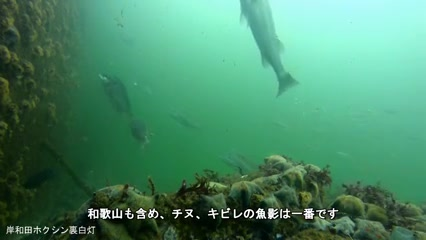smallfish: (93, 66, 140, 119)
